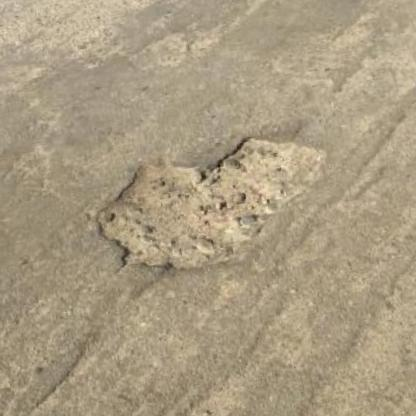pothole: (85, 121, 342, 283)
